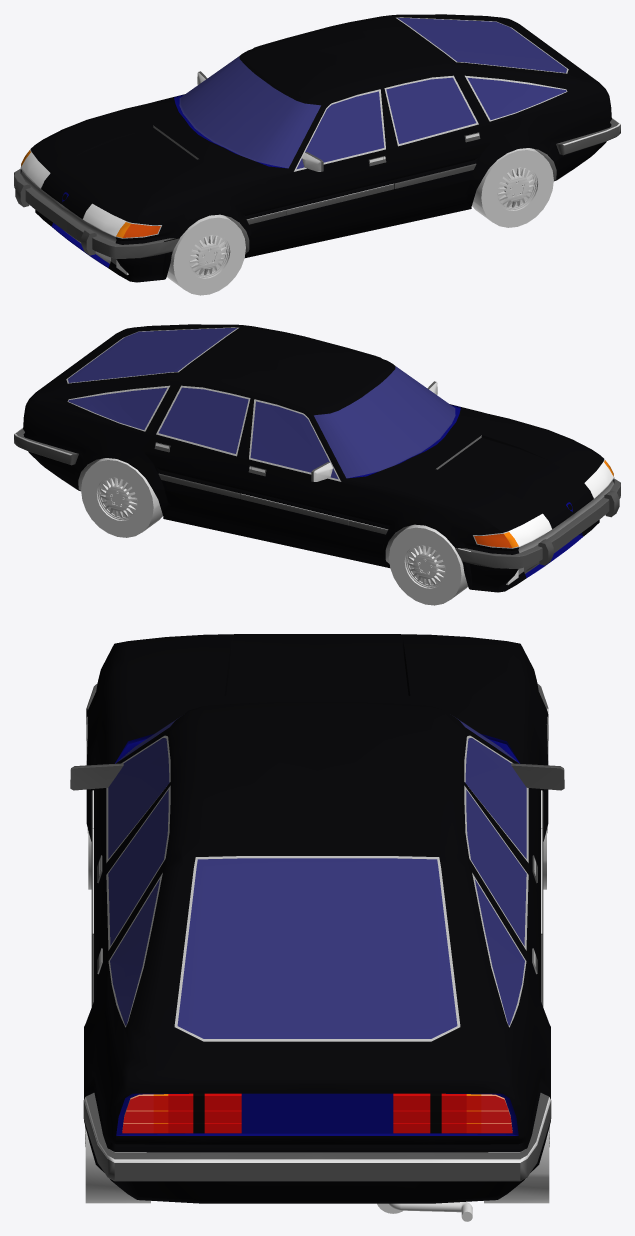
The model's file is Rover35001981.fbx.
The picture shows the model from 3 angles, top to bottom: view 1: azimuth 30°, elevation 25°; view 2: azimuth 150°, elevation 25°; view 3: azimuth 270°, elevation 25°; orthographic projection. The views are drawn at different scales.
Visible parts, largest first — view 1: Object_2; view 2: Object_2; view 3: Object_2.
Part boxes in pixels (left/top/right/bottom): Object_2: left=14, top=14, right=620, bottom=295; Object_2: left=14, top=324, right=620, bottom=605; Object_2: left=70, top=634, right=564, bottom=1221.
Bounding box in the file's own units: 599 × 176 × 247.
